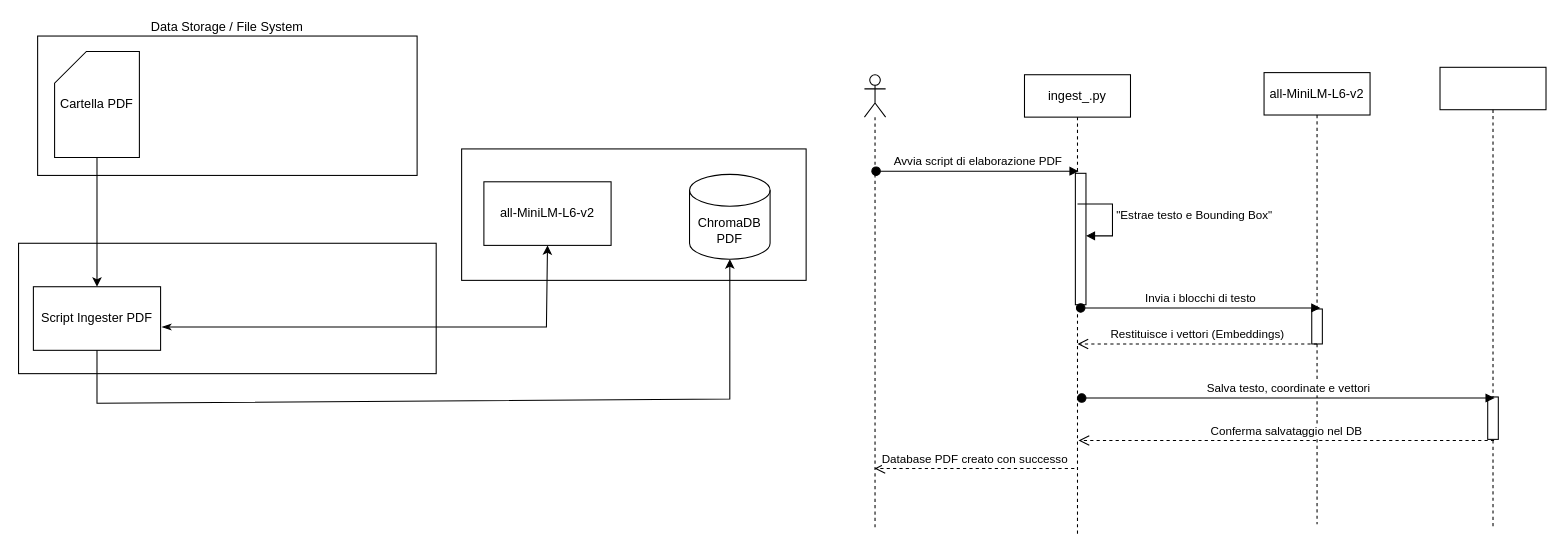
This 1565x553 diagram has some shape labels left out. The shapes that lost their labels are listed below. From the top down, each one's box as (x1, y1, x2, y2) in pixels, then its label:
(461, 148, 806, 280): MODELLO AI E DB VETTORIALE
(17, 242, 436, 374): Elaborazione / Ingestion
(1439, 66, 1546, 527): ChromaDB
